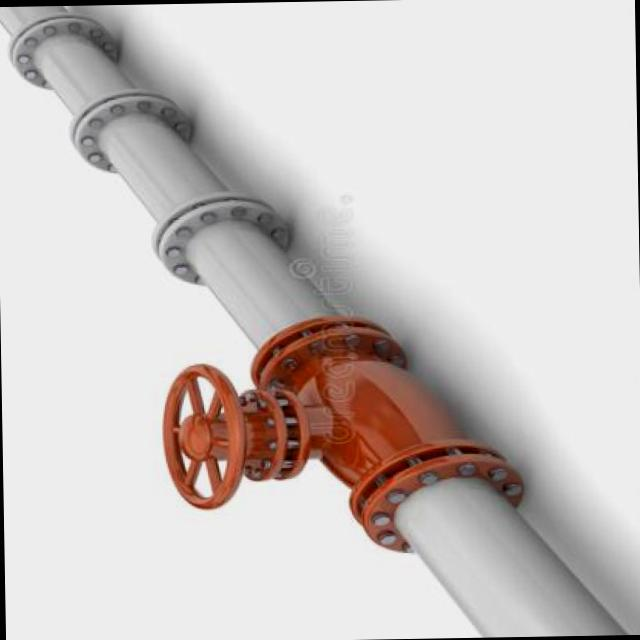gas: (0, 4, 627, 637)
